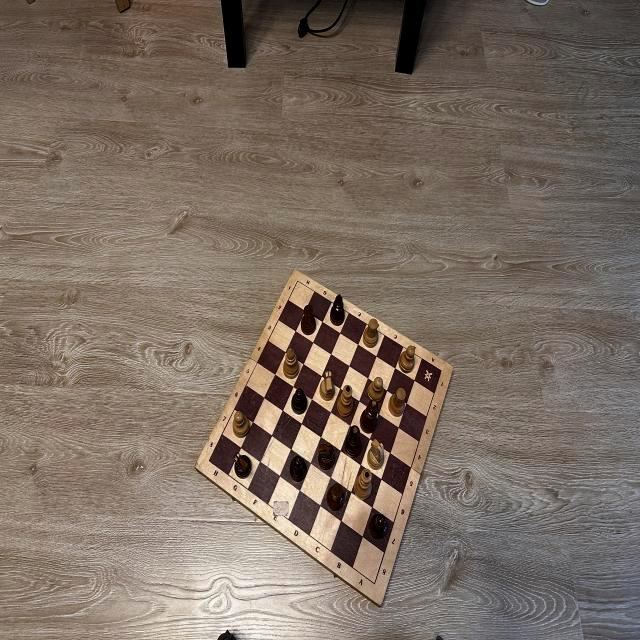chess-table-corners: (371, 578, 378, 588), (438, 366, 444, 374), (207, 456, 212, 464), (296, 278, 300, 284)
